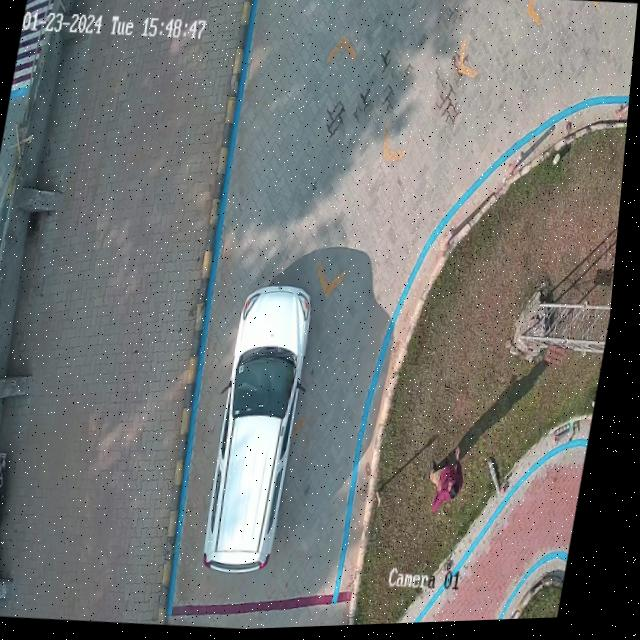car: (213, 287, 316, 575)
